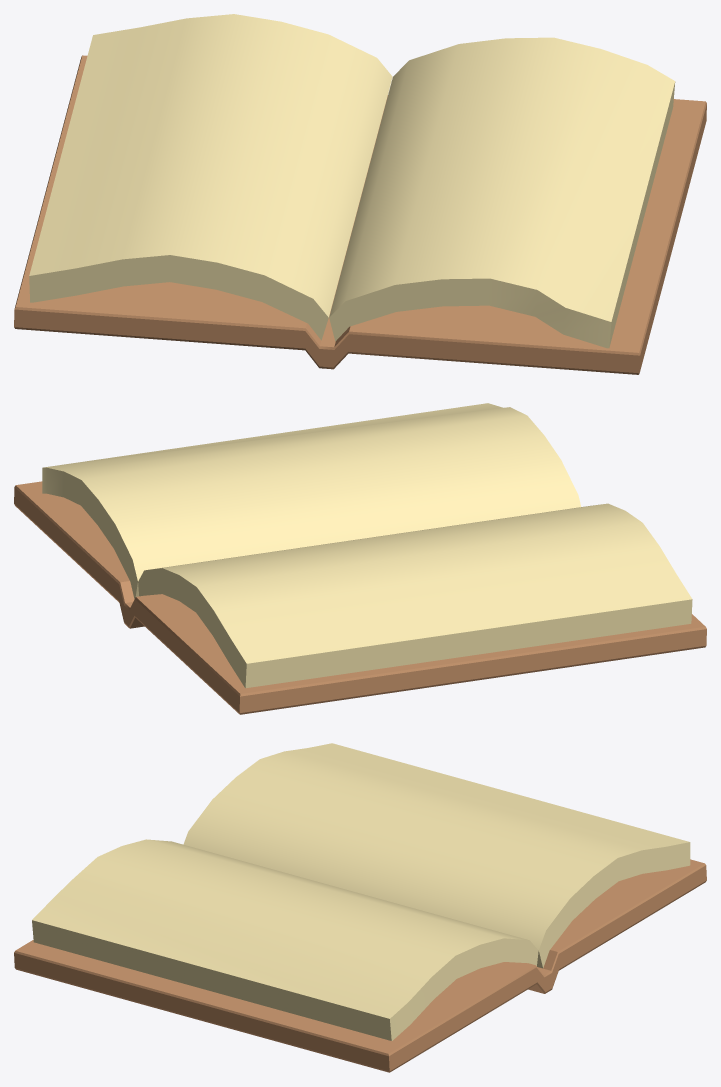
The model's file is book.fbx.
3 views of the same model, one above another, from view 1: azimuth 30°, elevation 25°; view 2: azimuth 150°, elevation 25°; view 3: azimuth 270°, elevation 25° (orthographic). The views are drawn at different scales.
Parts seen in each view (by area): view 1: Textured_006_256; view 2: Textured_006_256; view 3: Textured_006_256.
Boxes of the visible parts, x1=… form: Textured_006_256: x1=14, y1=14, x2=706, y2=374; Textured_006_256: x1=14, y1=403, x2=706, y2=714; Textured_006_256: x1=14, y1=743, x2=706, y2=1072.
Size of the model in its own units: 40.97 by 6.48 by 40.27.
